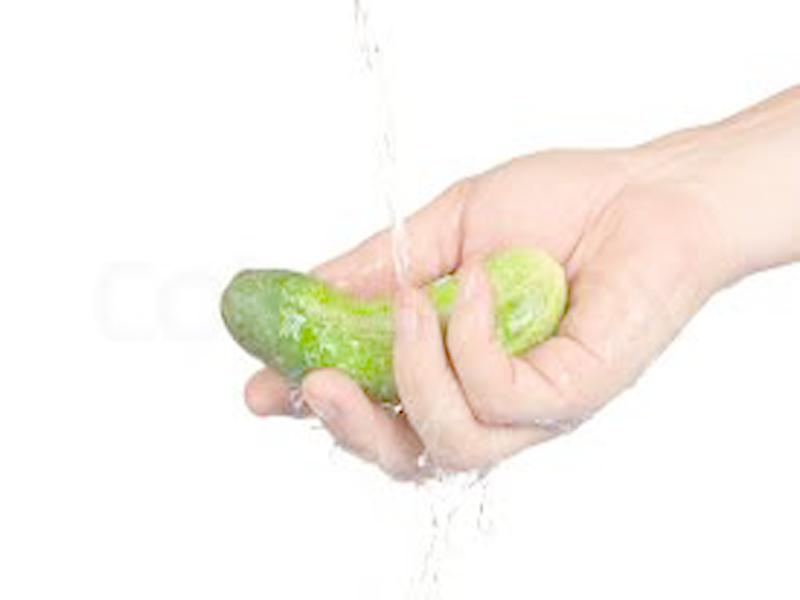Cucumber: (218, 252, 564, 393)
